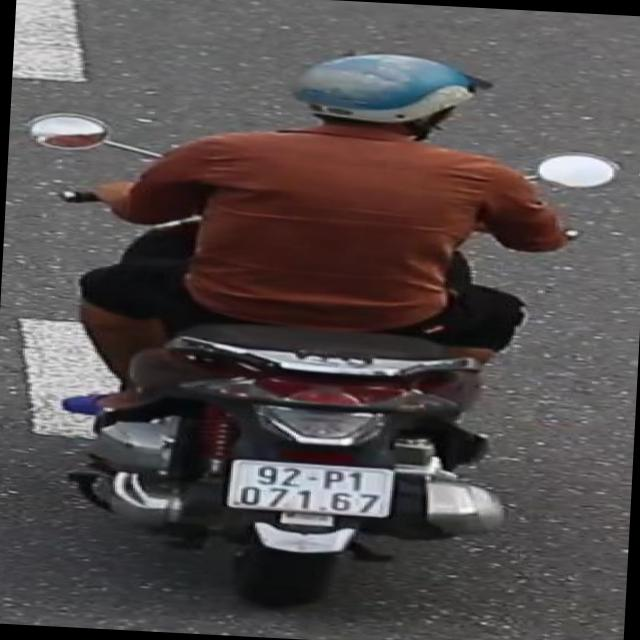LP: (212, 446, 406, 526)
helmet: (276, 36, 507, 164)
